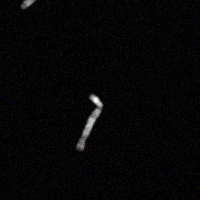chromosome: (75, 95, 102, 150), (20, 0, 91, 9)
